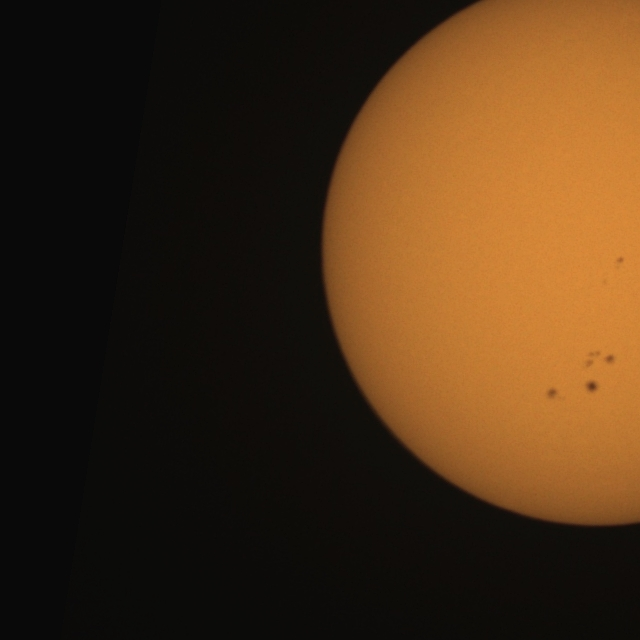sunspot: (581, 350, 617, 392), (585, 349, 616, 368), (545, 386, 564, 402), (584, 379, 600, 395), (603, 353, 616, 366), (615, 255, 625, 269)
